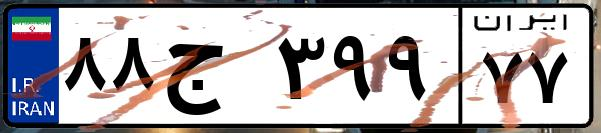3: (270, 28, 330, 110)
7: (475, 38, 525, 113), (525, 38, 570, 115)
8: (57, 26, 110, 100), (110, 28, 158, 98)
9: (385, 28, 445, 110), (330, 28, 385, 110)
ج: (158, 20, 270, 120)
